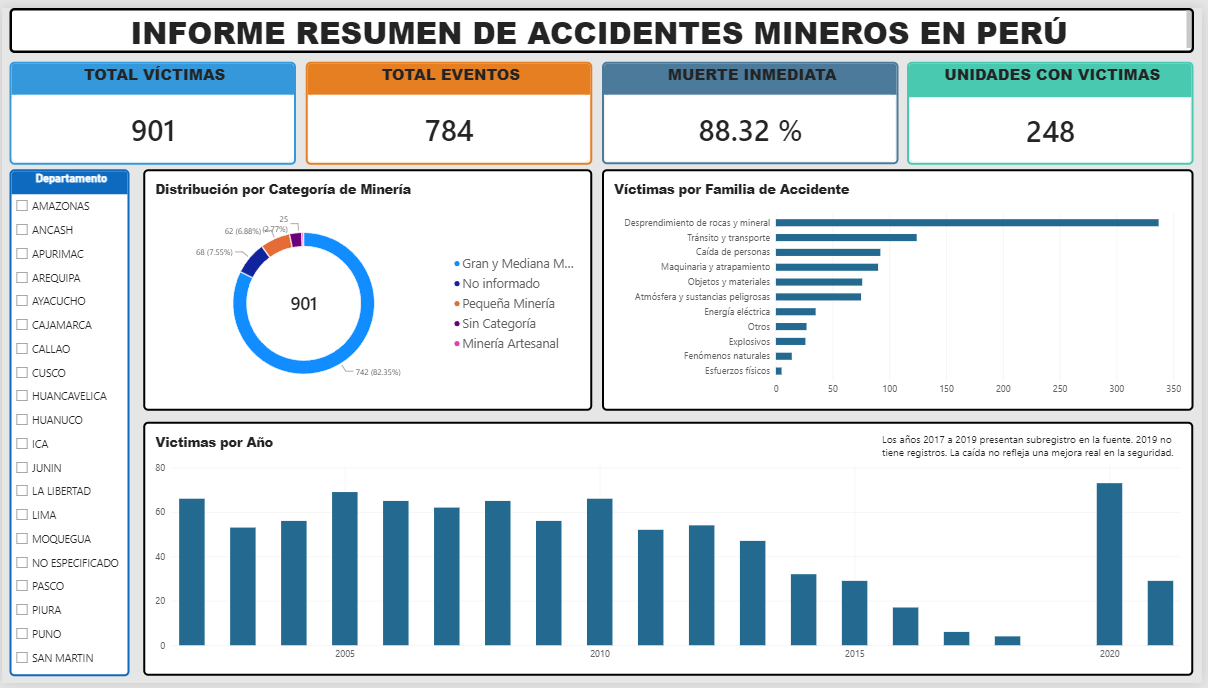

This screenshot's page, from the dashboard's own definition file:
{"tool":"powerbi","page":{"name":"Panorama","canvas":[1920,1080],"ordinal":0},"visuals":[{"type":"cardVisual","title":"TOTAL VÍCTIMAS","fields":{"Data":["fact_accidente.Victimas"]},"box":[11.7,85,458.3,165],"z":0},{"type":"cardVisual","title":"TOTAL EVENTOS","fields":{"Data":["fact_accidente.Eventos"]},"box":[486.7,85,458.3,165],"z":1000},{"type":"cardVisual","title":"MUERTE INMEDIATA","fields":{"Data":["fact_accidente.% Muerte Inmediata"]},"box":[960,86,474,164],"z":2000},{"type":"cardVisual","title":"UNIDADES CON VICTIMAS","fields":{"Data":["fact_accidente.Unidades con Victimas"]},"box":[1448.3,85,458.3,165],"z":3000},{"type":"clusteredColumnChart","title":"Victimas por Año","fields":{"Category":["dim_tiempo.anio"],"Y":["fact_accidente.Victimas"]},"box":[226,662,1680,406],"z":4000},{"type":"clusteredBarChart","title":"Víctimas por Familia de Accidente","fields":{"Category":["dim_tipo.familia"],"Y":["fact_accidente.Victimas"]},"box":[960,258,946,386],"z":5000},{"type":"donutChart","title":"Distribución por Categoría de Minería","fields":{"Category":["fact_accidente.categoria"],"Y":["fact_accidente.Victimas"]},"box":[226,258,718,386],"z":6000},{"type":"slicer","title":"Departamento","fields":{"Values":["dim_unidad.departamento"]},"box":[11.8,257.1,191.8,811.2],"z":7000},{"type":"textbox","box":[11.7,0,1895,71.7],"z":8000},{"type":"textbox","box":[1407.1,678.6,481.4,65.7],"z":9000}]}

Visuals, with their boxes in screenshot pixels (x1, y1, x2, y2), scaled from the page's 1920x1080 canvas onto the 1208x688 screenshot:
"TOTAL VÍCTIMAS" cardVisual: <region>7, 54, 296, 159</region>
"TOTAL EVENTOS" cardVisual: <region>306, 54, 595, 159</region>
"MUERTE INMEDIATA" cardVisual: <region>604, 55, 902, 159</region>
"UNIDADES CON VICTIMAS" cardVisual: <region>911, 54, 1200, 159</region>
"Victimas por Año" clusteredColumnChart: <region>142, 422, 1199, 680</region>
"Víctimas por Familia de Accidente" clusteredBarChart: <region>604, 164, 1199, 410</region>
"Distribución por Categoría de Minería" donutChart: <region>142, 164, 594, 410</region>
"Departamento" slicer: <region>7, 164, 128, 681</region>
textbox: <region>7, 0, 1200, 46</region>
textbox: <region>885, 432, 1188, 474</region>
